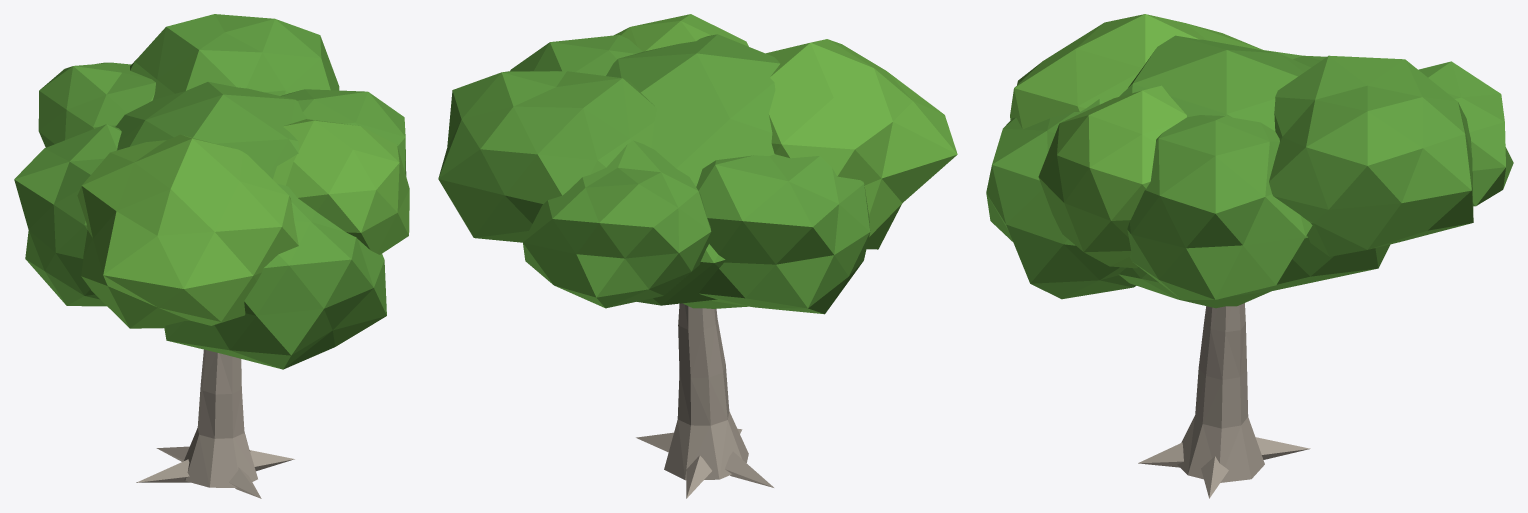
The model's file is HS_LP_Tree_Beech_01.fbx.
3 renders of one model, left to right at view 1: azimuth 30°, elevation 25°; view 2: azimuth 150°, elevation 25°; view 3: azimuth 270°, elevation 25°, orthographic. The views are drawn at different scales.
Parts seen in each view (by area): view 1: HS_LP_Tree_Beech_01; view 2: HS_LP_Tree_Beech_01; view 3: HS_LP_Tree_Beech_01.
Part boxes in pixels (<box>): HS_LP_Tree_Beech_01: <box>14,14,409,498</box>; HS_LP_Tree_Beech_01: <box>438,14,957,498</box>; HS_LP_Tree_Beech_01: <box>986,14,1513,498</box>.
Bounding box in the file's own units: 537 × 556 × 623.
